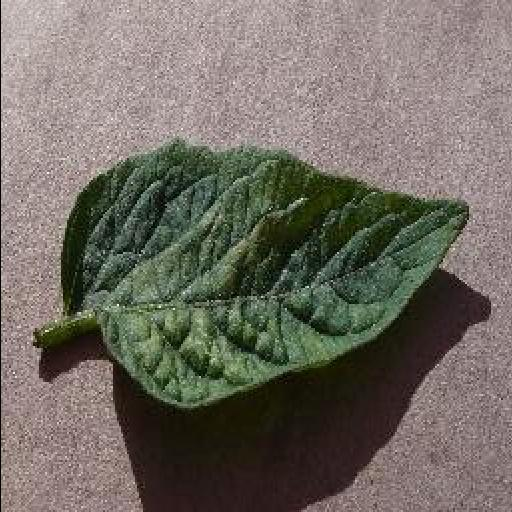disease_tomato: (56, 144, 474, 406)
